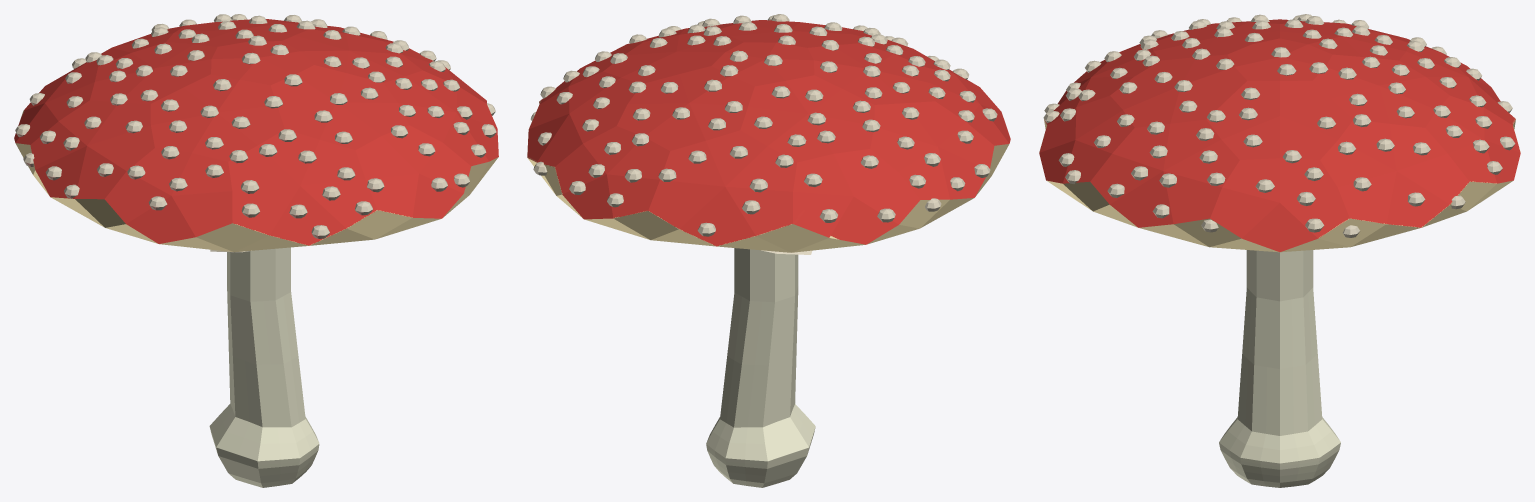
Rendered from mush-musc.glb.
3 renders of one model, left to right at view 1: azimuth 30°, elevation 25°; view 2: azimuth 150°, elevation 25°; view 3: azimuth 270°, elevation 25°, orthographic.
Parts seen in each view (by area): view 1: Hat, Foot; view 2: Hat, Foot; view 3: Hat, Foot.
Boxes of the visible parts, bbox=[...] form: Hat: bbox=[14, 14, 498, 252]; Foot: bbox=[209, 247, 319, 487]; Hat: bbox=[527, 14, 1010, 252]; Foot: bbox=[706, 248, 815, 487]; Hat: bbox=[1039, 14, 1520, 252]; Foot: bbox=[1219, 250, 1340, 487].
Bounding box in the file's own units: 7.34 × 7 × 7.26.
3 materials, 2 textured.
